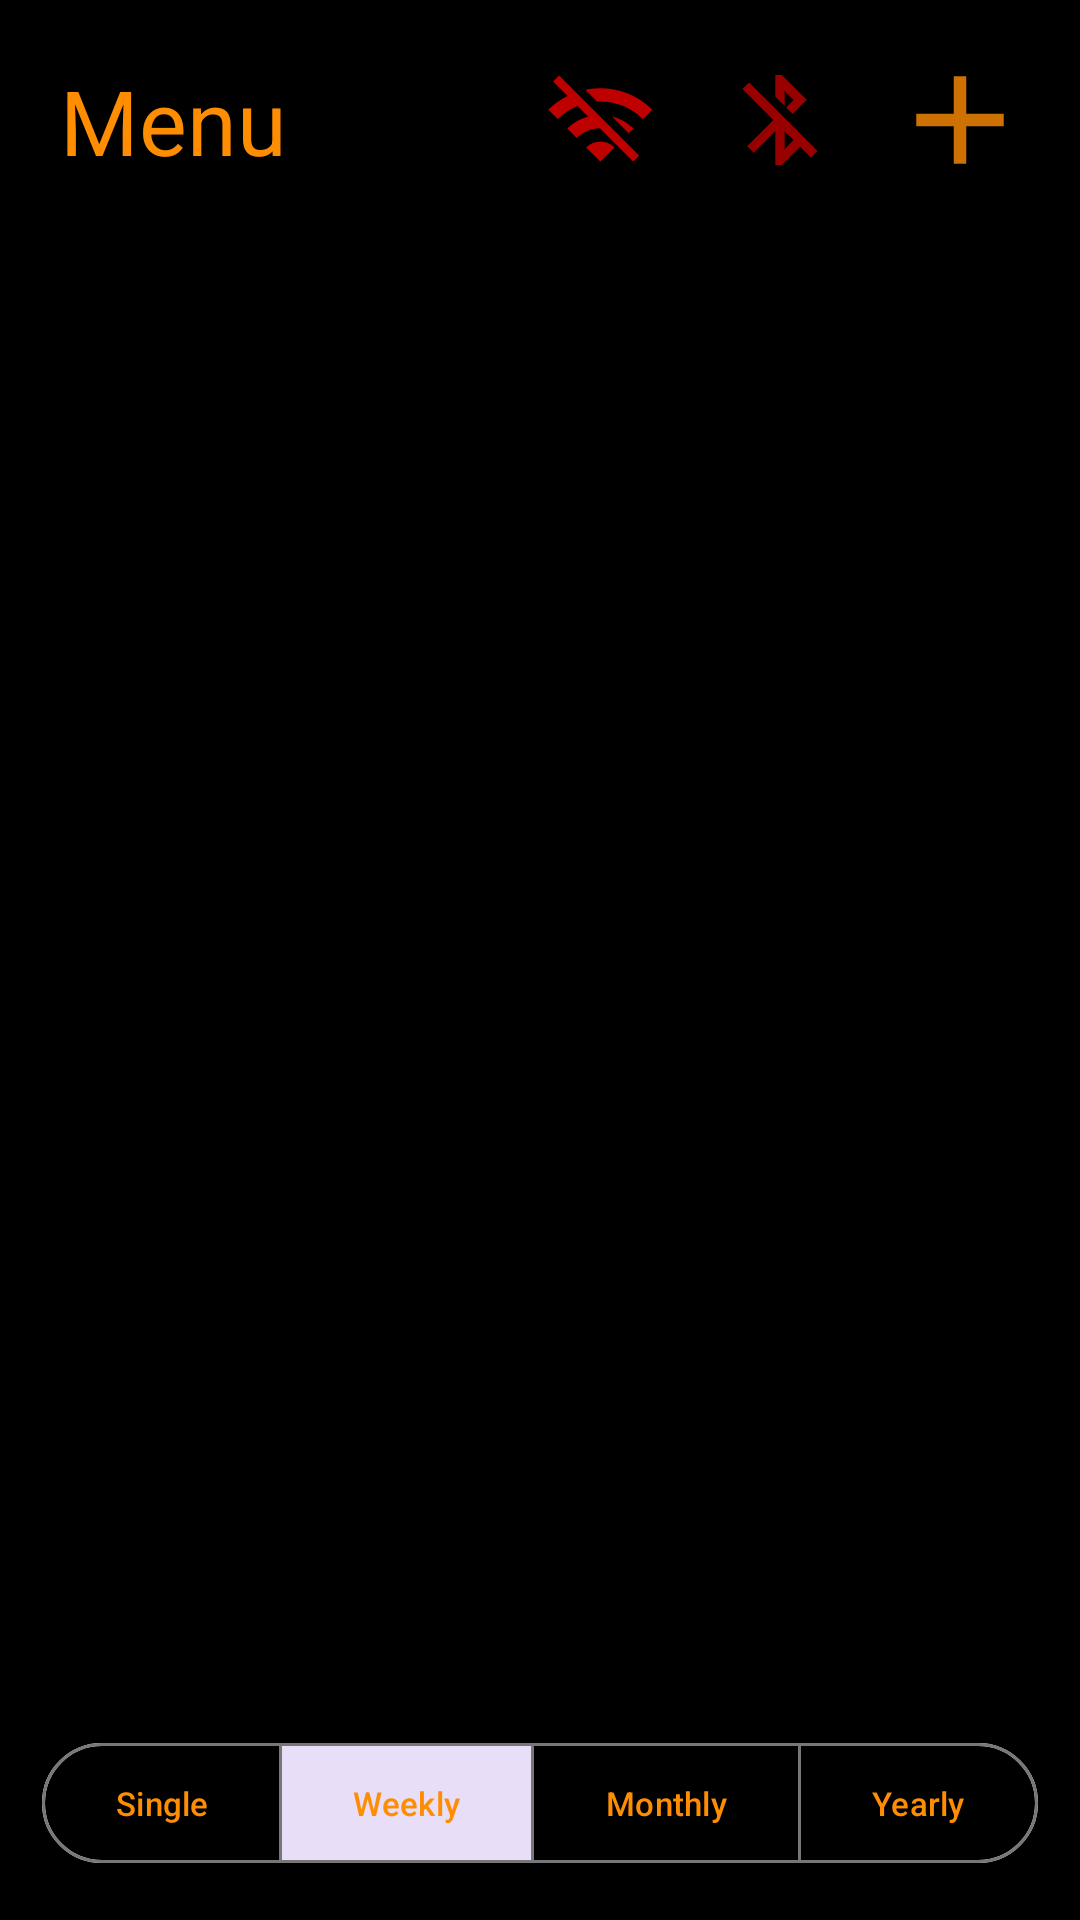

Icons on this 1080 × 1920 Android screen, each with its box as (x1=x1, y1=y1, x2=x2, y2=y2):
add menu: (x1=916, y1=76, x2=1004, y2=164)
wifi disconnected: (x1=548, y1=75, x2=652, y2=162)
